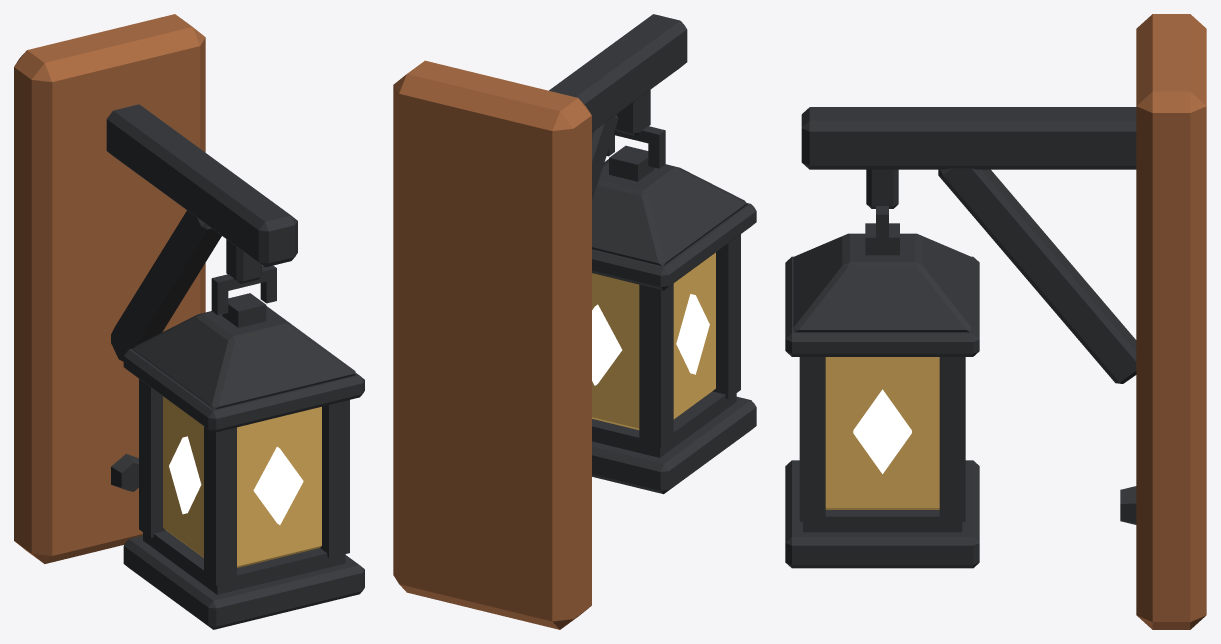
File: Lodge_WallLantern.fbx
The picture shows the model from 3 angles, left to right: view 1: azimuth 30°, elevation 25°; view 2: azimuth 150°, elevation 25°; view 3: azimuth 270°, elevation 25°; orthographic projection. The views are drawn at different scales.
Parts seen in each view (by area): view 1: FnWood, FnMetal, FnPane, FnCore; view 2: FnWood, FnMetal, FnPane, FnCore; view 3: FnMetal, FnWood, FnPane, FnCore.
Part boxes in pixels (bbox=[...]): FnWood: bbox=[14, 14, 205, 563]; FnMetal: bbox=[106, 104, 364, 629]; FnPane: bbox=[163, 396, 321, 567]; FnCore: bbox=[169, 436, 303, 524]; FnWood: bbox=[393, 60, 591, 629]; FnMetal: bbox=[549, 14, 756, 494]; FnPane: bbox=[592, 252, 715, 429]; FnCore: bbox=[592, 294, 709, 385]; FnMetal: bbox=[785, 107, 1136, 568]; FnWood: bbox=[1136, 14, 1206, 629]; FnPane: bbox=[825, 357, 939, 509]; FnCore: bbox=[853, 389, 911, 473].
Size of the model in its own units: 0.8 by 2.2 by 1.56.
